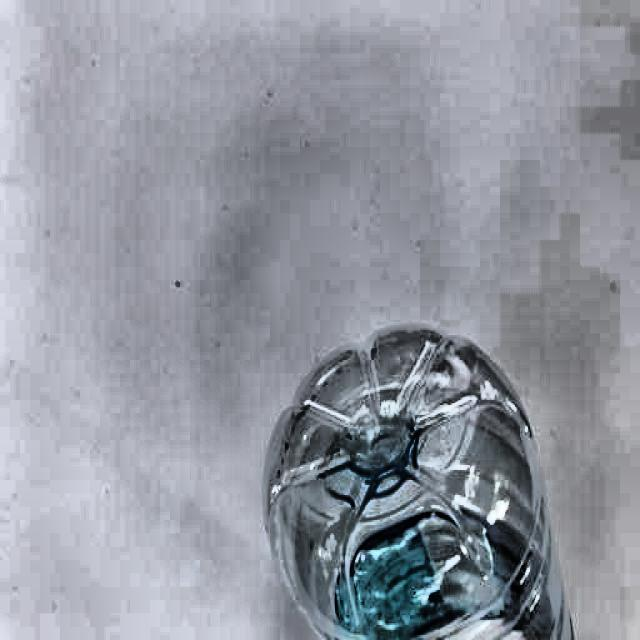plastic: (265, 326, 573, 640)
